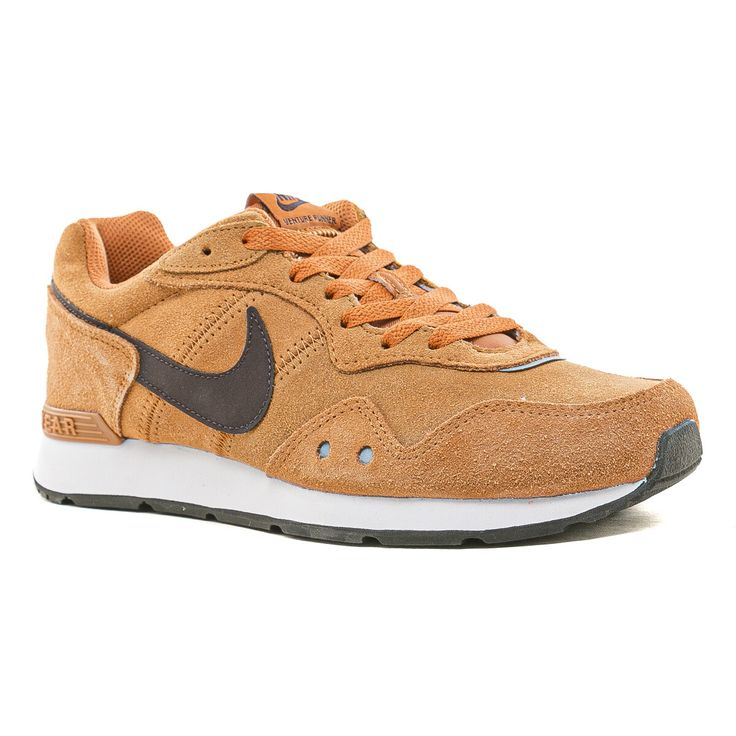gamuza: (41, 191, 701, 498)
